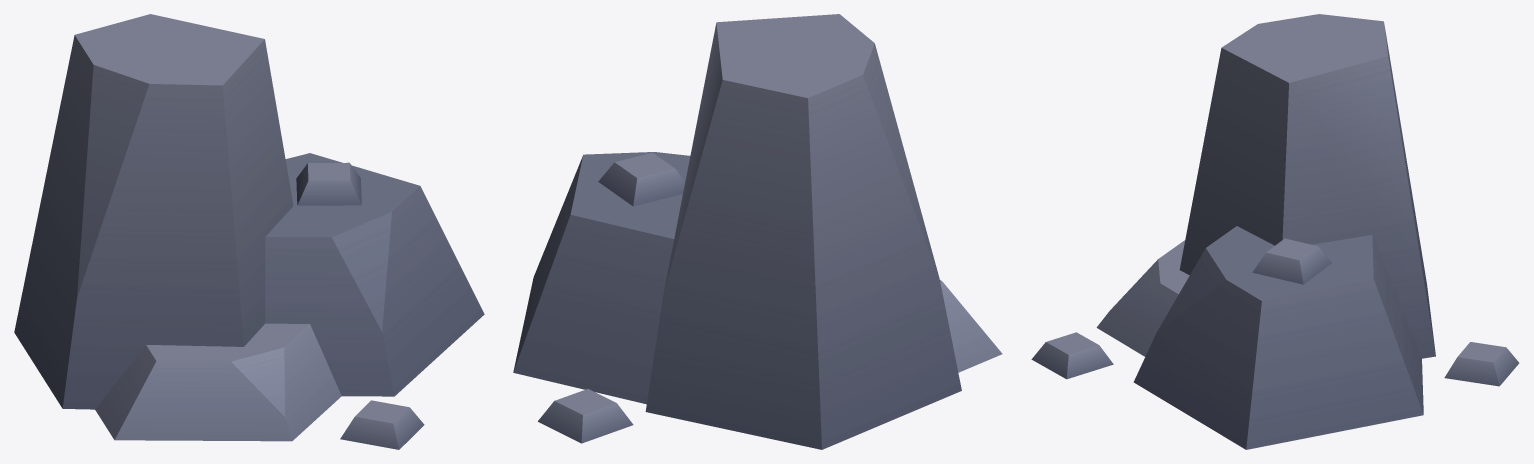
File: cc0-asteroid-lod1.glb
3 views of the same model, side by side, from view 1: azimuth 30°, elevation 25°; view 2: azimuth 150°, elevation 25°; view 3: azimuth 270°, elevation 25° (orthographic). The views are drawn at different scales.
Parts seen in each view (by area): view 1: part_0; view 2: part_0; view 3: part_0.
Part boxes in pixels (left/top/right/bottom): part_0: left=14, top=14, right=484, bottom=449; part_0: left=513, top=14, right=1002, bottom=449; part_0: left=1031, top=14, right=1519, bottom=449.
Bounding box in the file's own units: 0.5552 × 0.3927 × 0.6216.
1 material, 1 textured.
